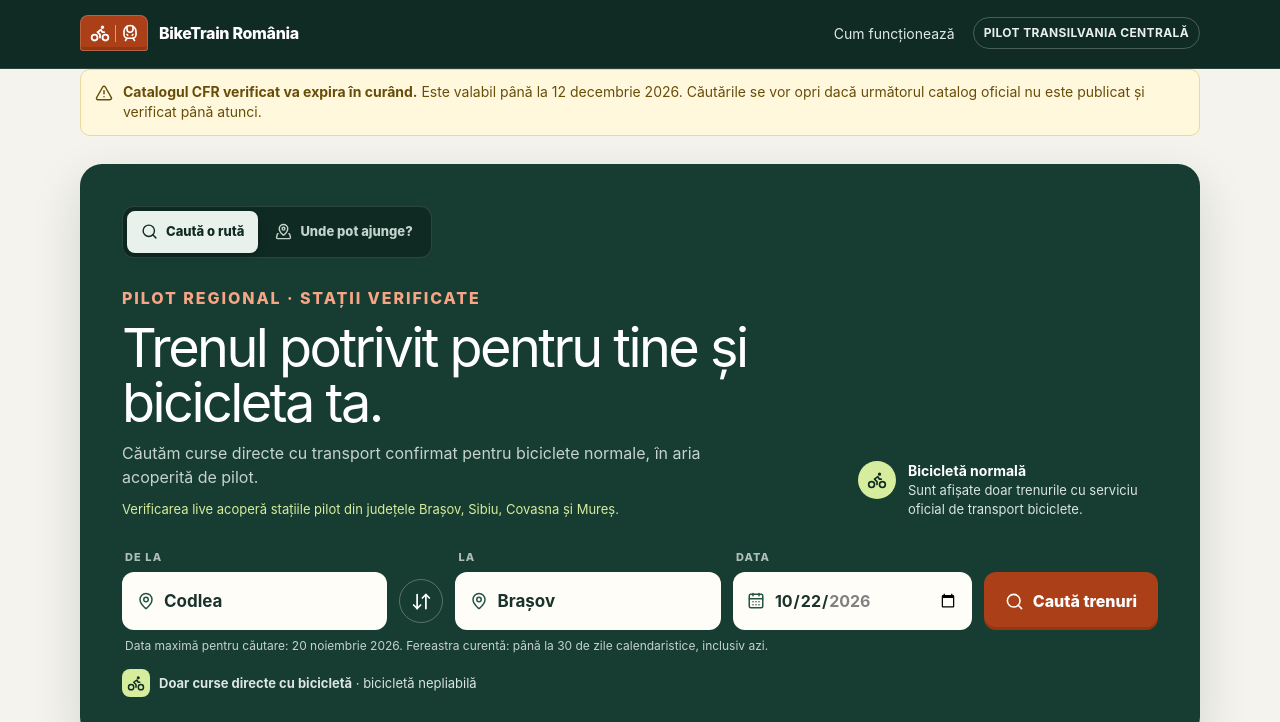
Test: BikeTrain app › announces the guidance when no compatible direct destinations are found
This screenshot has width=1280, height=722.
What coordinates should you click on to do the following:
click the tab "Unde pot ajunge?"
I would click on:
 (344, 232)
Its box is [261, 211, 427, 253].
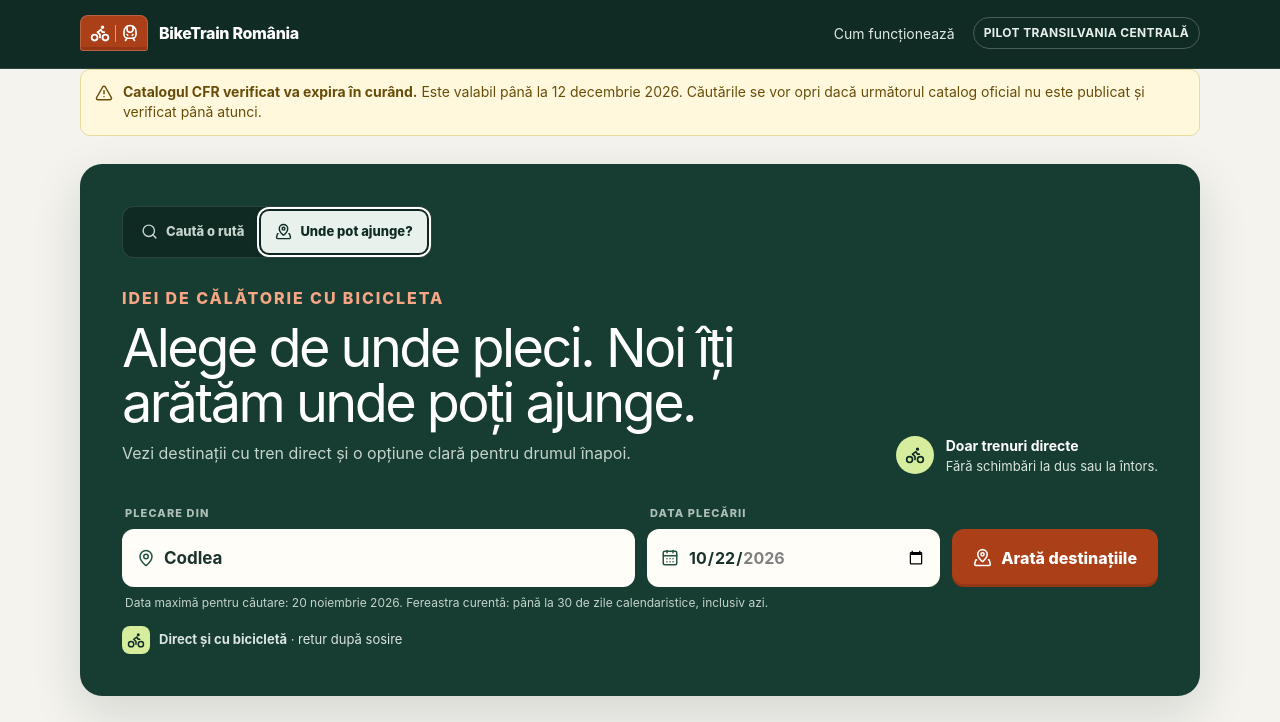
What coordinates should you click on to do the following:
click the button "Arată destinațiile"
I would click on:
 (1055, 558)
Its box is [952, 529, 1158, 587].
(page scrolled)
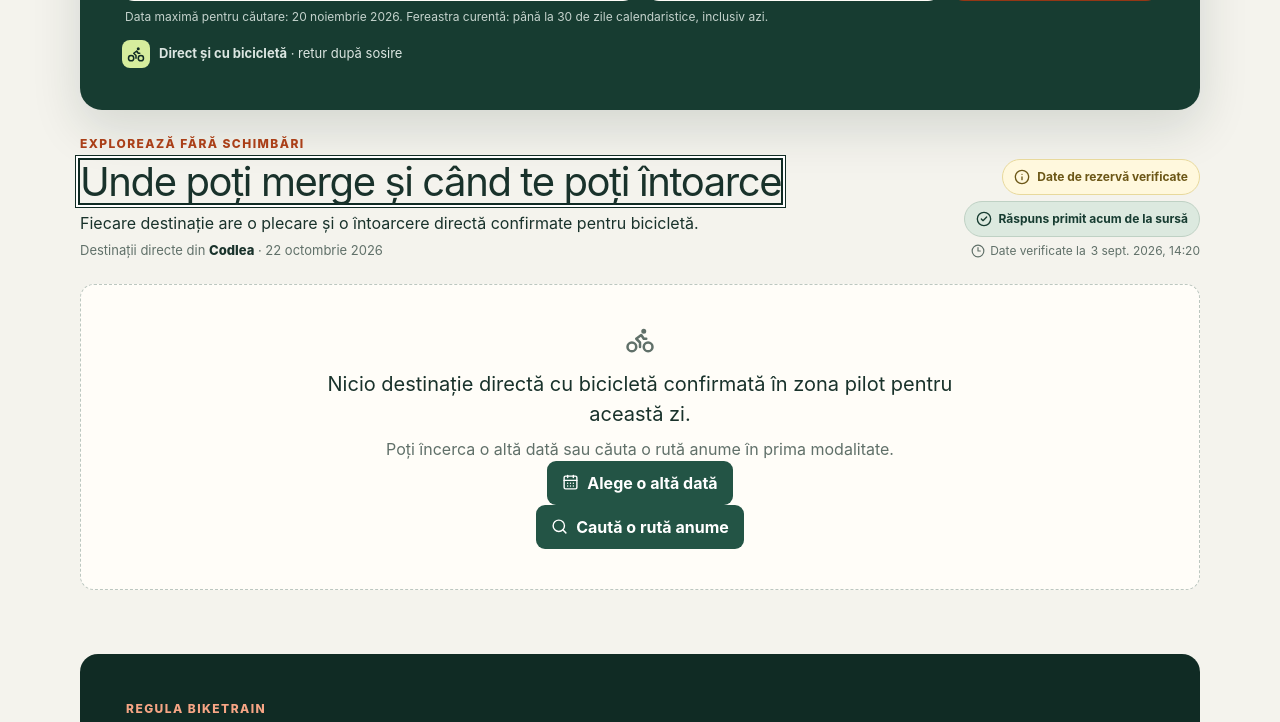
Expected: the heading named "Nicio destinație directă cu bicicletă confirmată în zona pilot pentru această zi." is shown, [315, 369, 965, 429]
